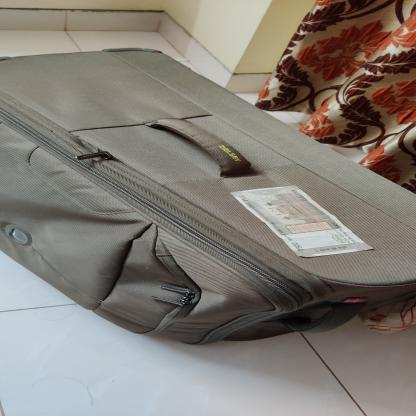New500Back: (229, 185, 374, 258)
